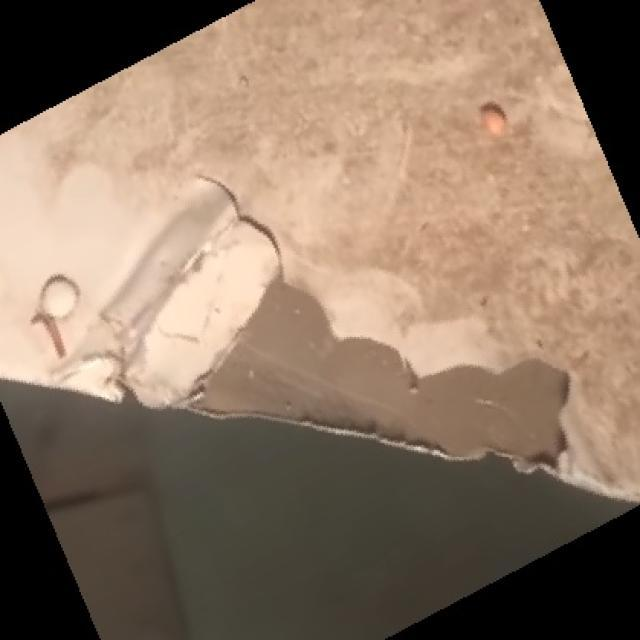crack: (185, 186, 334, 284)
